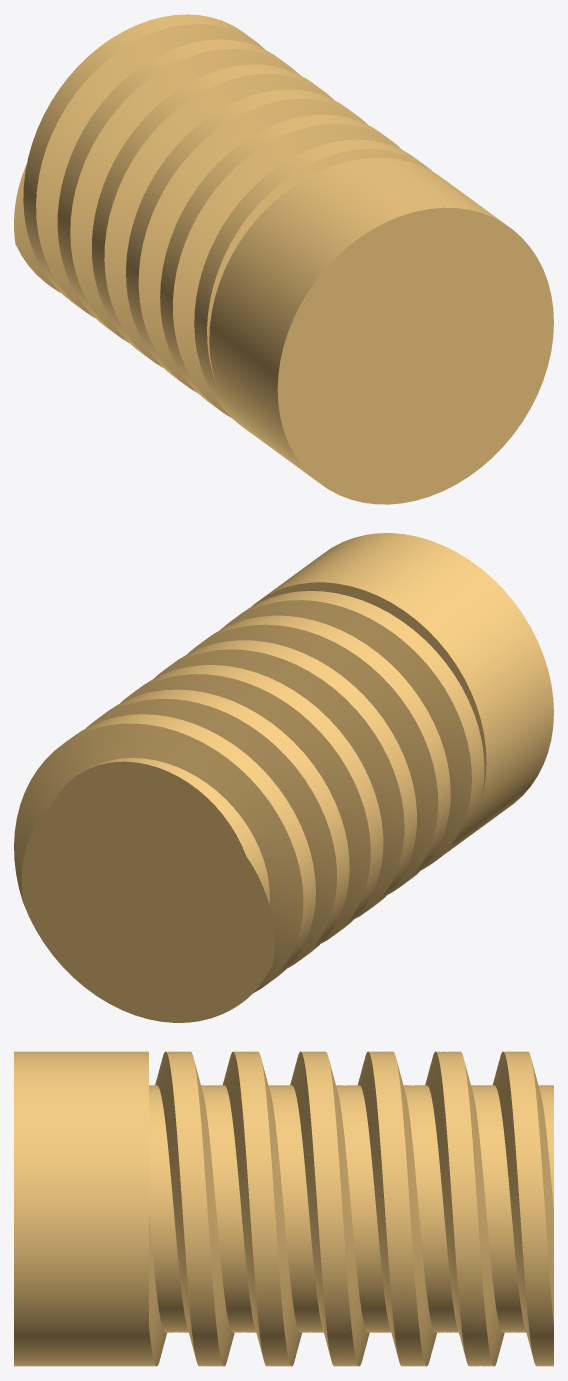
File: threads-acme.glb
3 renders of one model, top to bottom at view 1: azimuth 30°, elevation 25°; view 2: azimuth 150°, elevation 25°; view 3: azimuth 270°, elevation 25°, orthographic.
Visible parts, largest first — view 1: SOLID; view 2: SOLID; view 3: SOLID.
Part boxes in pixels (x1,y1,x2,y2): SOLID: (14, 14, 553, 504); SOLID: (14, 533, 553, 1022); SOLID: (14, 1051, 553, 1366).
Size of the model in its own units: 14 by 14 by 24.
